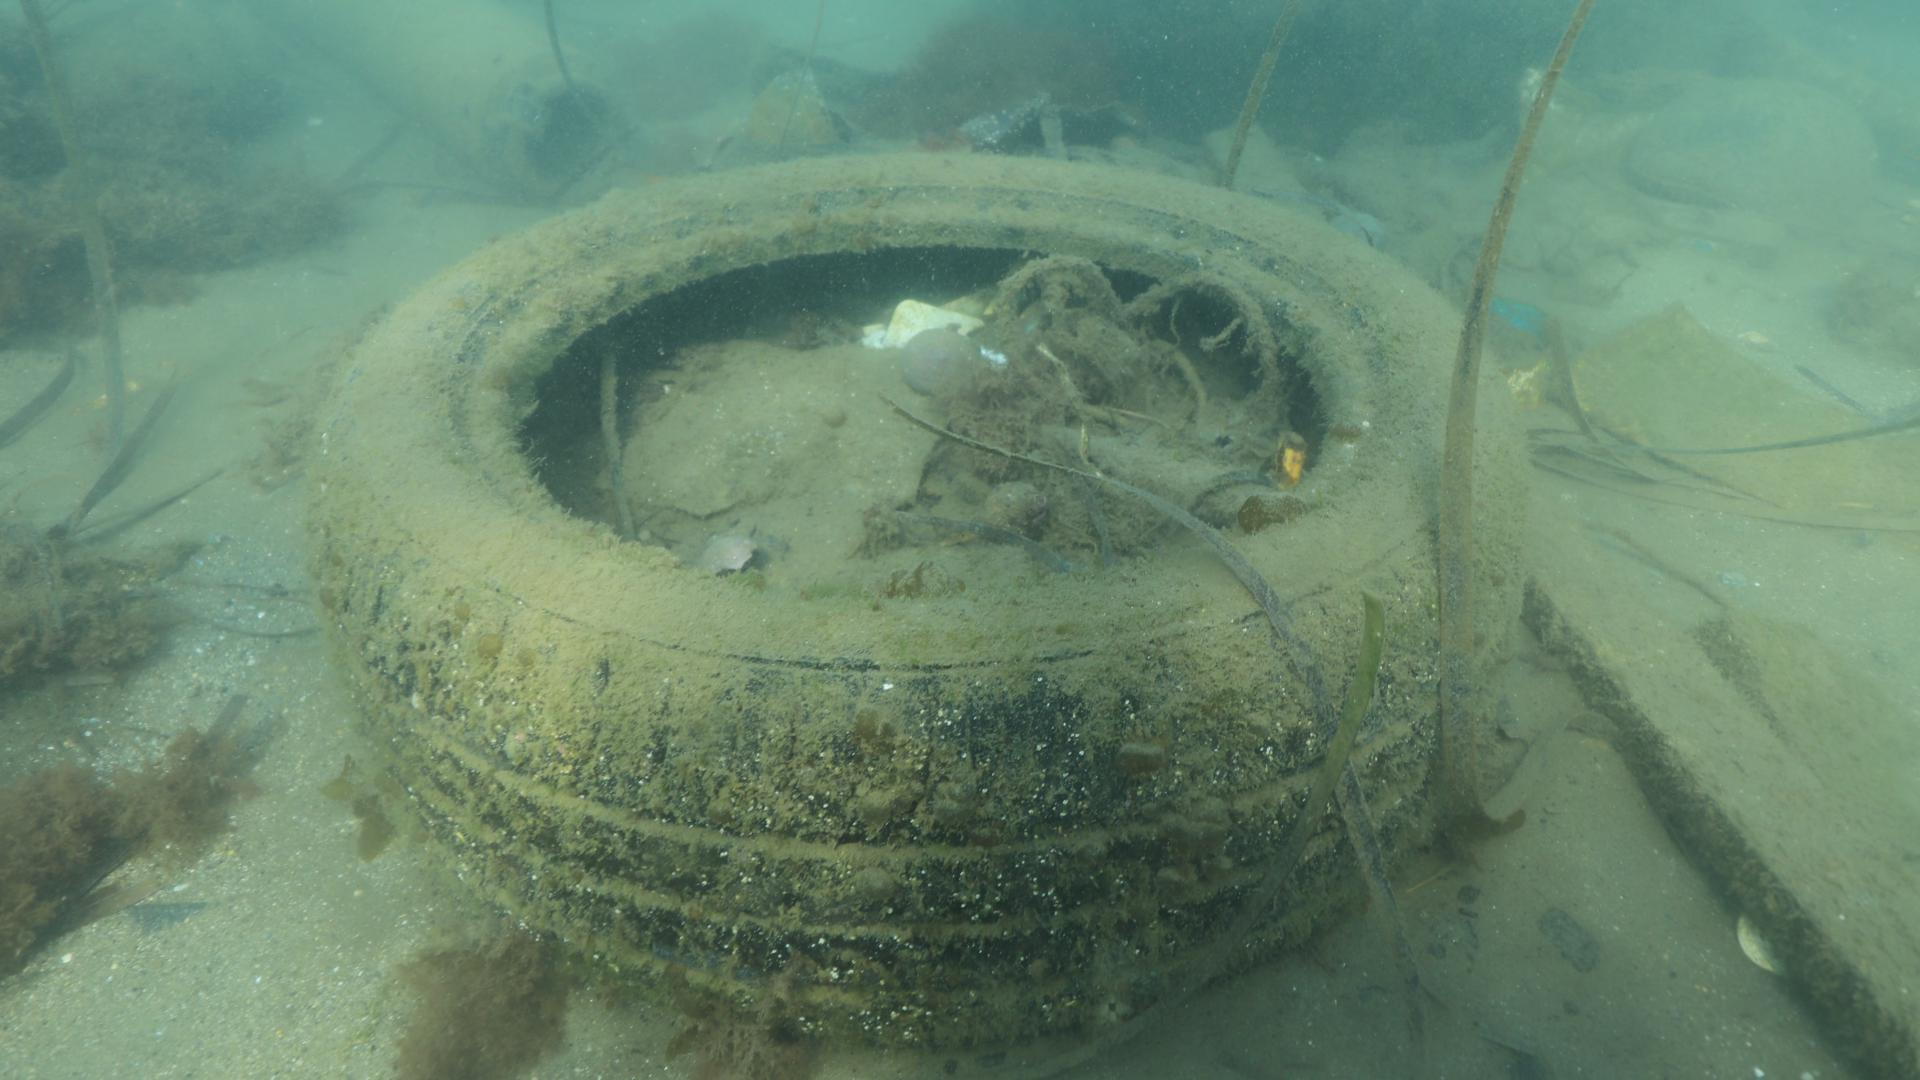eel fish trap: (262, 0, 622, 204)
tire: (307, 152, 1527, 1054)
wood: (1523, 509, 1920, 1080)
